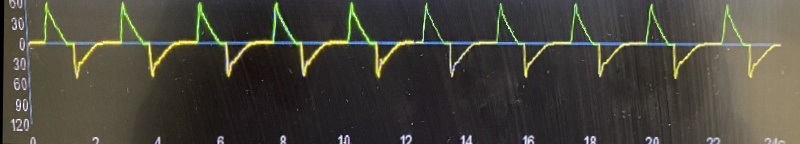normal_flow: (16, 0, 799, 86)
